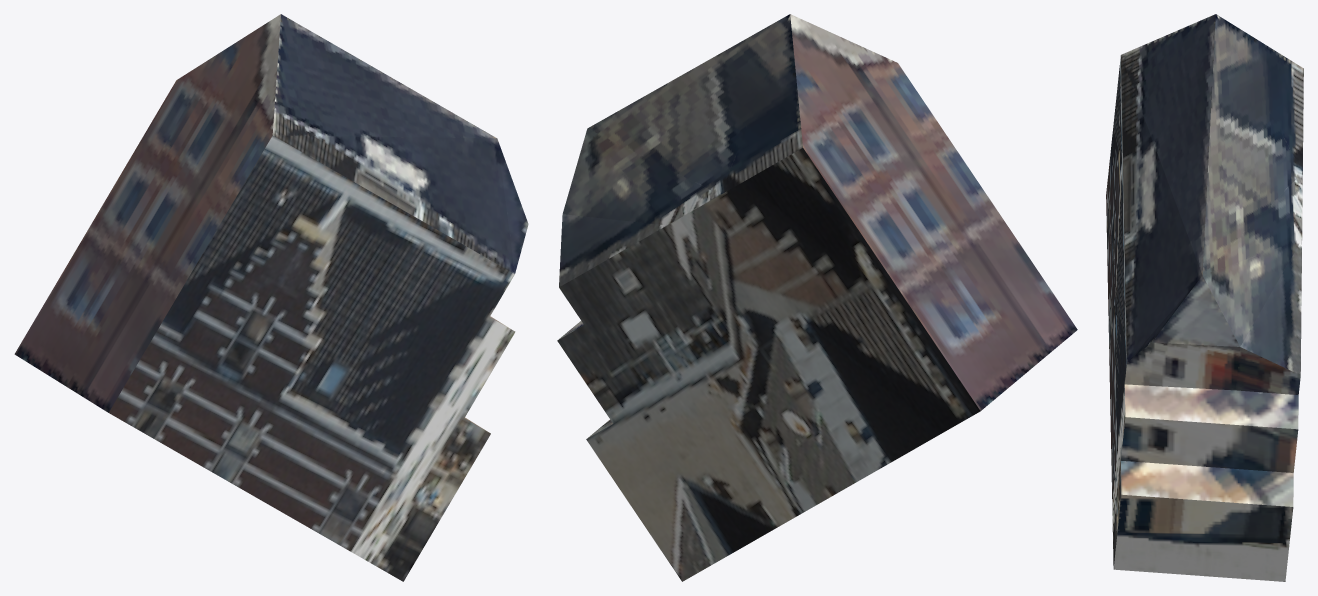
The picture shows the model from 3 angles, left to right: view 1: azimuth 30°, elevation 25°; view 2: azimuth 150°, elevation 25°; view 3: azimuth 270°, elevation 25°; orthographic projection. The views are drawn at different scales.
Visible parts, largest first — view 1: BAG_0599100000671811 (×2); view 2: BAG_0599100000671811 (×2); view 3: BAG_0599100000671811 (×2).
Boxes of the visible parts, x1,y1,x2,y2 form: BAG_0599100000671811 (×2): [14, 14, 528, 581]; BAG_0599100000671811 (×2): [557, 14, 1077, 581]; BAG_0599100000671811 (×2): [1106, 14, 1303, 581].
Bounding box in the file's own units: 16.46 × 19.74 × 6.62.
Materials: 2 (2 with a texture image).
